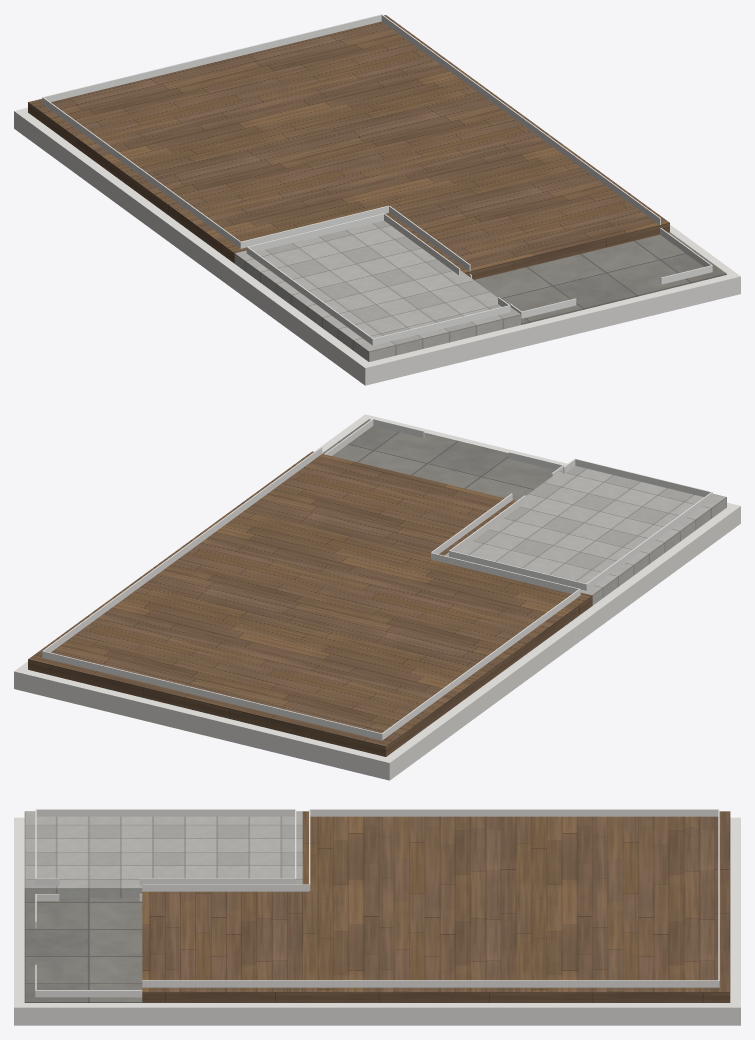
The model's file is floors.glb.
3 renders of one model, top to bottom at view 1: azimuth 30°, elevation 25°; view 2: azimuth 150°, elevation 25°; view 3: azimuth 270°, elevation 25°, orthographic. The views are drawn at different scales.
Parts seen in each view (by area): view 1: floor_room, floor_bathroom, slab, floor_kitchen, floor_entrance, baseboard_room, baseboard_bathroom, baseboard_entrance, baseboard_kitchen; view 2: floor_room, slab, floor_bathroom, floor_kitchen, floor_entrance, baseboard_room, baseboard_bathroom, baseboard_kitchen, baseboard_entrance; view 3: floor_room, slab, floor_bathroom, floor_kitchen, floor_entrance, baseboard_room, baseboard_bathroom, baseboard_kitchen, baseboard_entrance.
Boxes of the visible parts, x1,y1,x2,y2 form: floor_room: (28,15,591,263); floor_bathroom: (234,220,520,361); slab: (14,107,740,385); floor_kitchen: (388,166,669,279); floor_entrance: (474,232,726,324); baseboard_room: (42,14,582,248); baseboard_bathroom: (246,213,510,345); baseboard_entrance: (469,228,712,318); baseboard_kitchen: (392,161,660,271); floor_room: (28,508,592,756); slab: (14,414,740,780); floor_bathroom: (444,466,726,605); floor_kitchen: (235,451,516,555); floor_entrance: (322,419,555,500); baseboard_room: (42,504,580,740); baseboard_bathroom: (449,458,712,590); baseboard_kitchen: (244,447,512,554); baseboard_entrance: (324,418,564,476); floor_room: (302,811,730,1002); slab: (14,817,740,1025); floor_bathroom: (24,811,302,897); floor_kitchen: (142,891,302,1002); floor_entrance: (24,898,142,1002); baseboard_room: (302,809,719,987); baseboard_bathroom: (35,809,296,885); baseboard_kitchen: (142,884,302,987); baseboard_entrance: (35,894,142,997).
Size of the model in its own units: 4.2 by 0.37 by 6.8.
5 materials, 3 textured.
